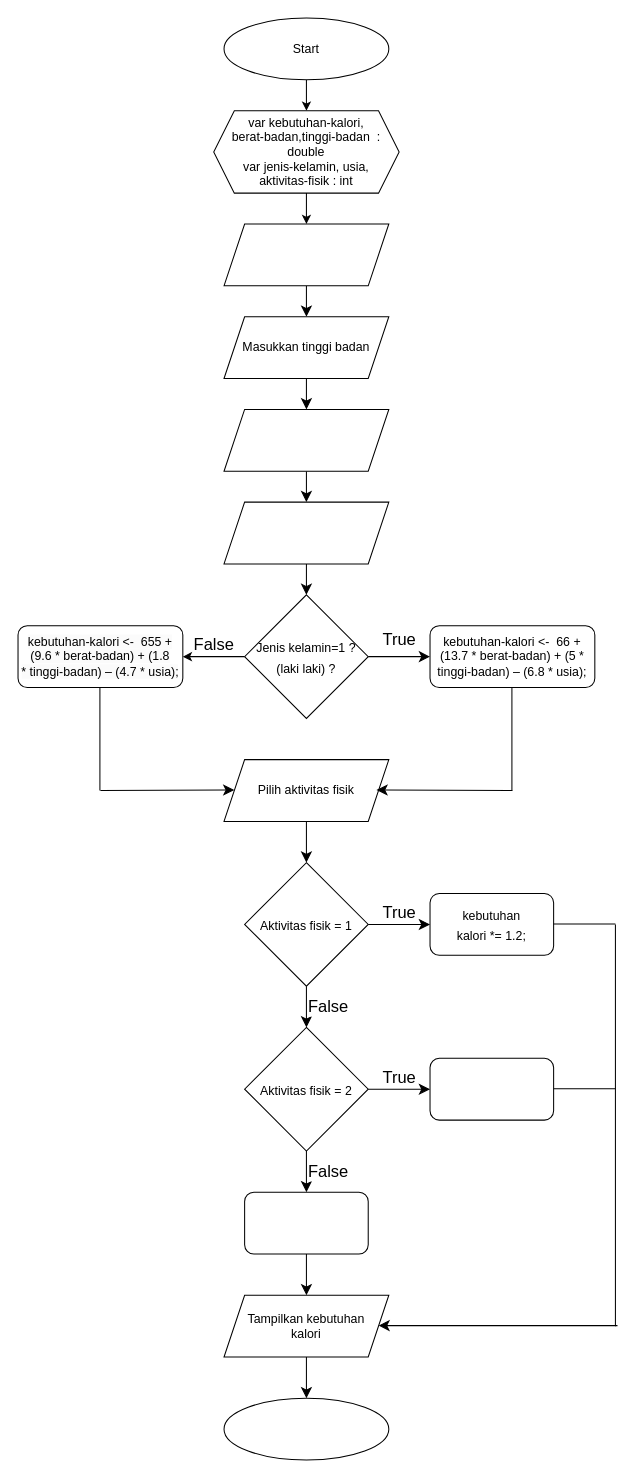
The diagram is 636 pixels wide and 1478 high, and some of its shapes have lost their labels. The shapes that lost their labels are listed below. From the top down, each one's centre as x and y in pixels, then its label:
At (306,254): "Masukkan berat-badan".
At (306,439): "Masukkan usia".
At (306,532): "Pilih jenis kelamin".
At (491,1088): "kebutuhan kalori *= 1.55;".
At (306,1222): "kebutuhan kalori *= 1.9;".
At (306,1428): "End".
